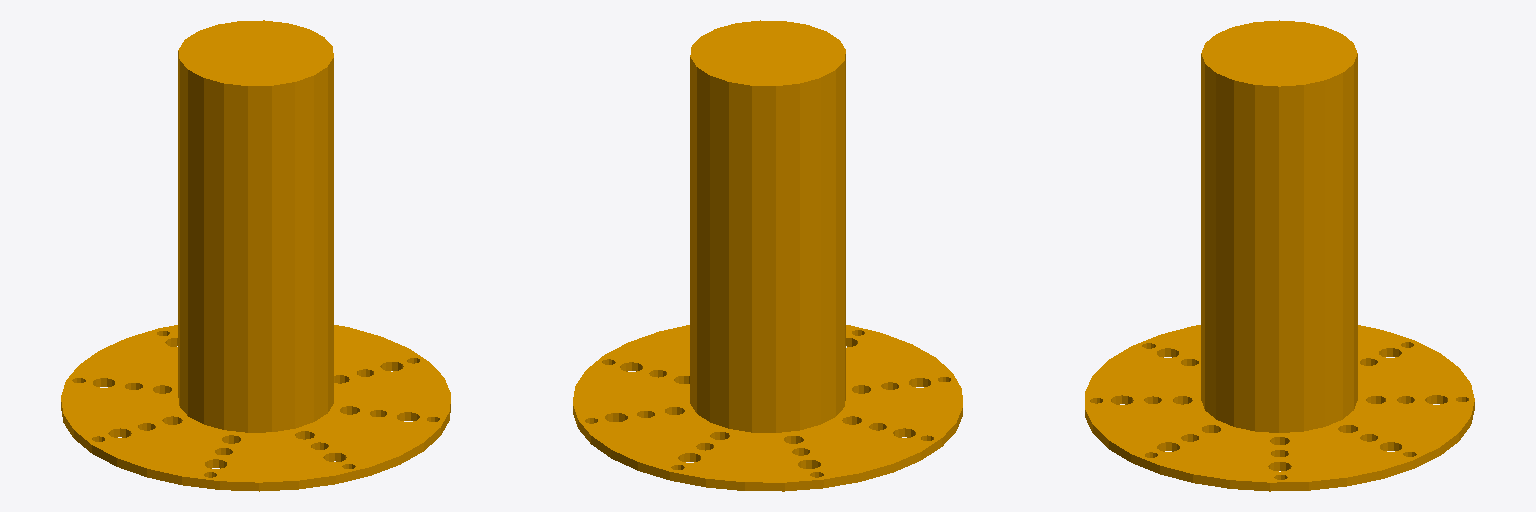
robot.urdf — 00308_socket:
<?xml version="1.0"?>
<robot name="00308_socket">
	<link name="00308_socket">
		<visual>
			<geometry>
				<mesh filename="../mesh/00308/asset_socket.obj"/>
			</geometry>
		</visual>
		<collision>
			<geometry>
				<mesh filename="../mesh/00308/asset_socket.obj"/>
			</geometry>
			<sdf resolution="256"/>
		</collision>
	</link>
</robot>

--- Render facts (derived) ---
Views: 3 orthographic renders of the robot side by side, from view 1: azimuth 30°, elevation 25°; view 2: azimuth 150°, elevation 25°; view 3: azimuth 270°, elevation 25°.
Model 00308_socket with 1 links and 0 joints (none), rooted at 00308_socket, posed all joints at 0.
Visible links, largest first — view 1: 00308_socket; view 2: 00308_socket; view 3: 00308_socket.
Link boxes in pixels (box(x1,y1,x2,y2)): 00308_socket: box(61, 20, 450, 491); 00308_socket: box(573, 20, 962, 491); 00308_socket: box(1085, 20, 1474, 491).
Size in the robot's own frame: 0.0492 by 0.0492 by 0.0494 metres.
Meshes: 1 distinct files referenced, 1 mesh visuals loaded (1 OBJ).
